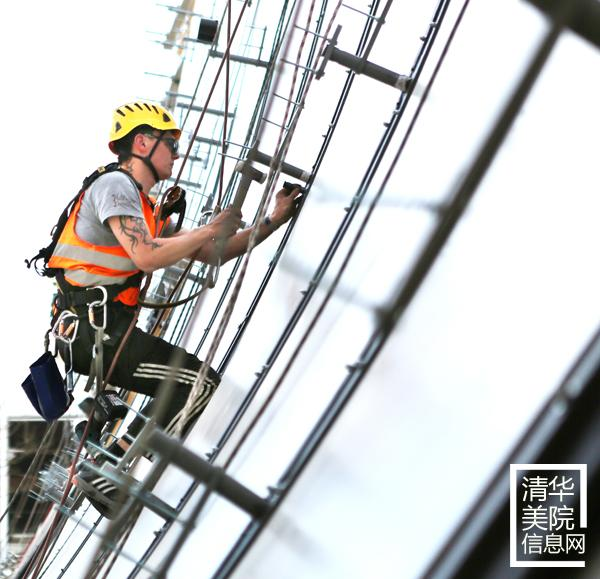helmet: (109, 98, 187, 148)
